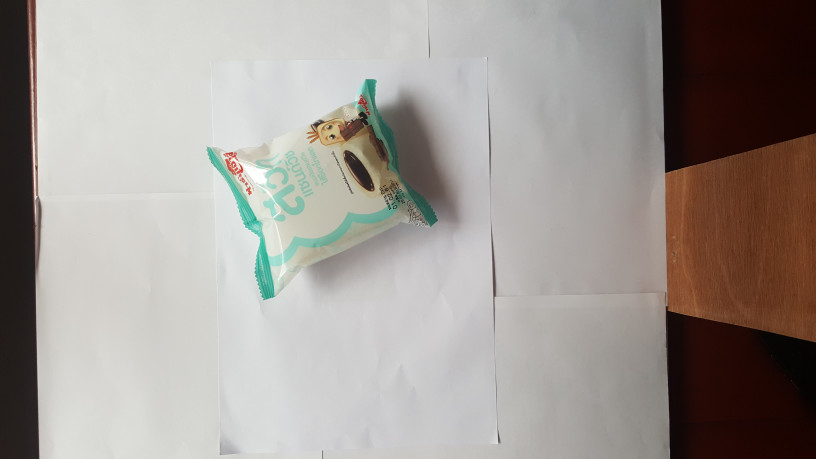farmhouse-sweetsandwich-chocolate: (205, 77, 438, 300)
